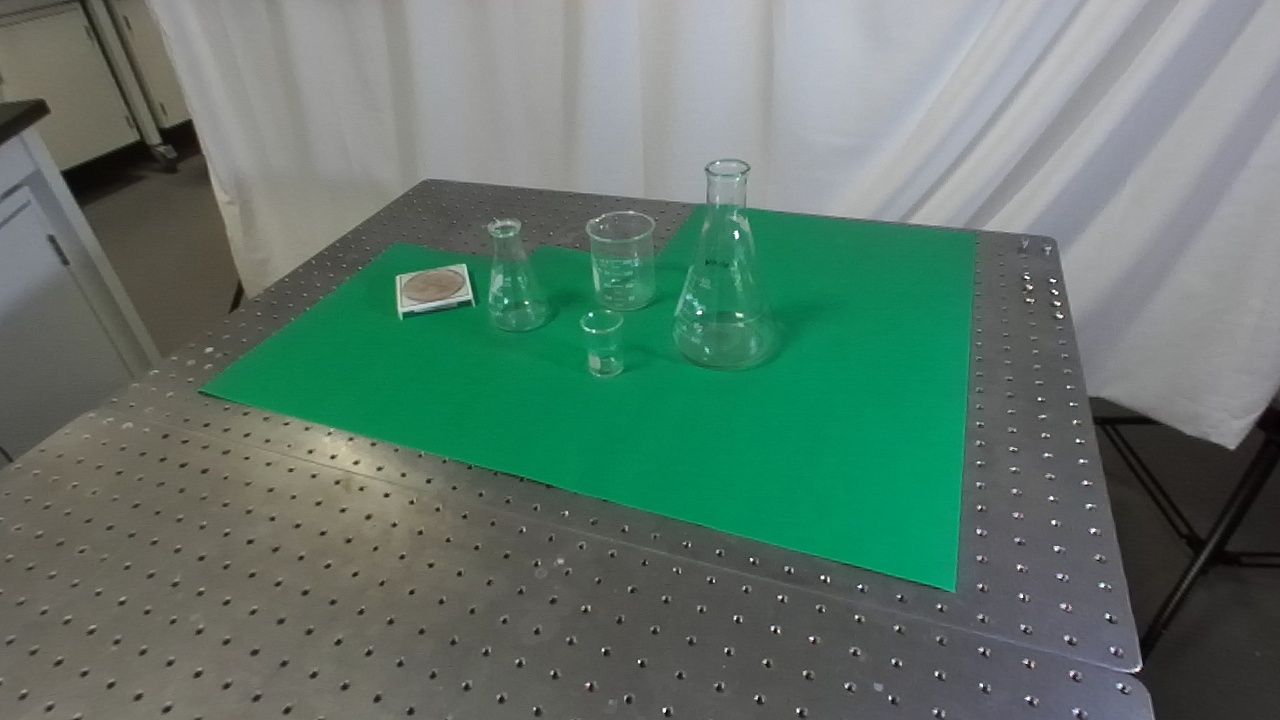glass: (669, 155, 780, 373), (482, 216, 553, 334), (583, 210, 660, 317), (580, 308, 627, 380)
plate: (393, 261, 480, 324)
